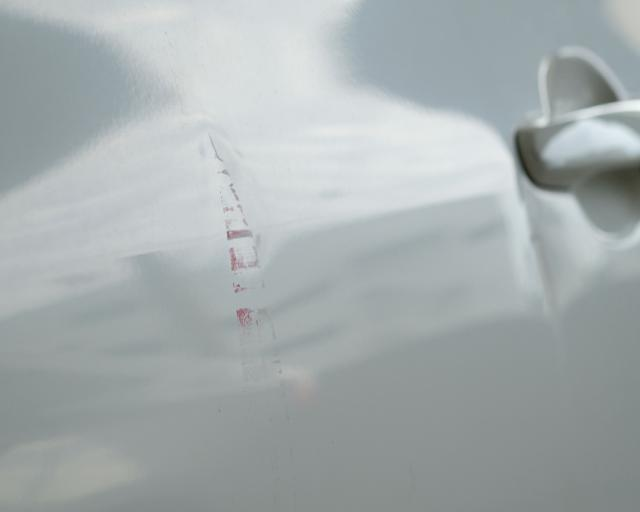dent: (79, 253, 245, 400), (196, 134, 269, 280), (506, 177, 579, 313)
scratch: (233, 273, 279, 343)
